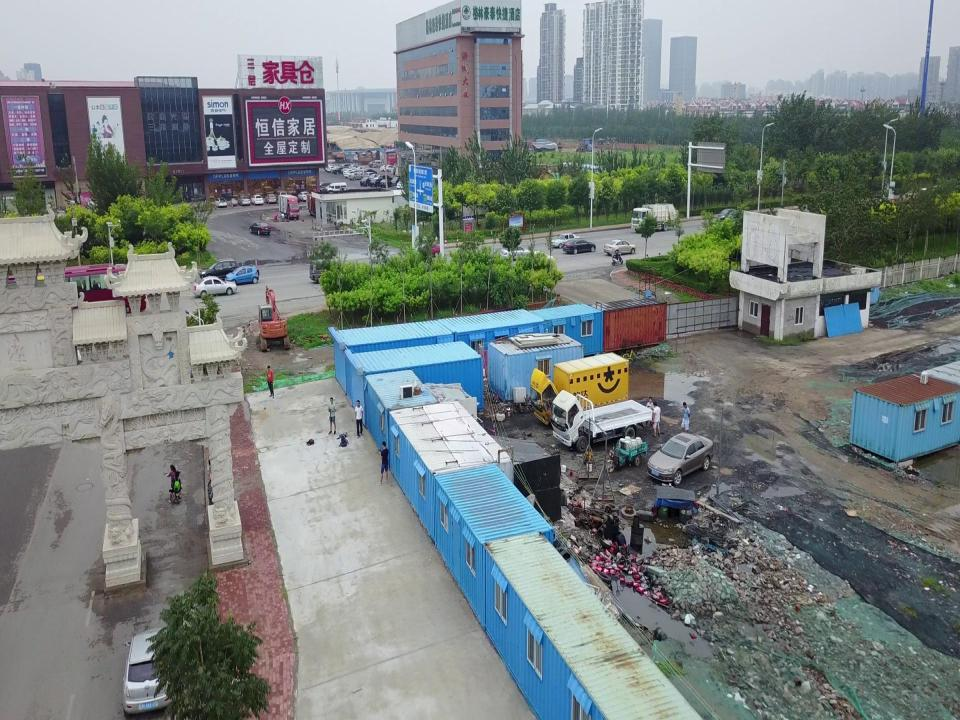bus: (3, 260, 146, 320)
car: (122, 625, 178, 718), (646, 431, 714, 486), (192, 275, 238, 299), (199, 258, 241, 281), (225, 264, 260, 287), (562, 237, 596, 255), (412, 241, 444, 260), (603, 239, 637, 256), (499, 245, 532, 262), (524, 250, 554, 267), (550, 232, 580, 248), (715, 208, 741, 223), (249, 221, 271, 236), (250, 194, 264, 206), (237, 195, 251, 207), (297, 191, 311, 202), (214, 197, 228, 208), (288, 192, 300, 203), (265, 193, 276, 205)
truck: (524, 351, 629, 427), (549, 389, 653, 454), (630, 202, 680, 233), (307, 187, 353, 217), (278, 193, 302, 221)
van: (309, 258, 349, 283), (274, 190, 287, 203)
